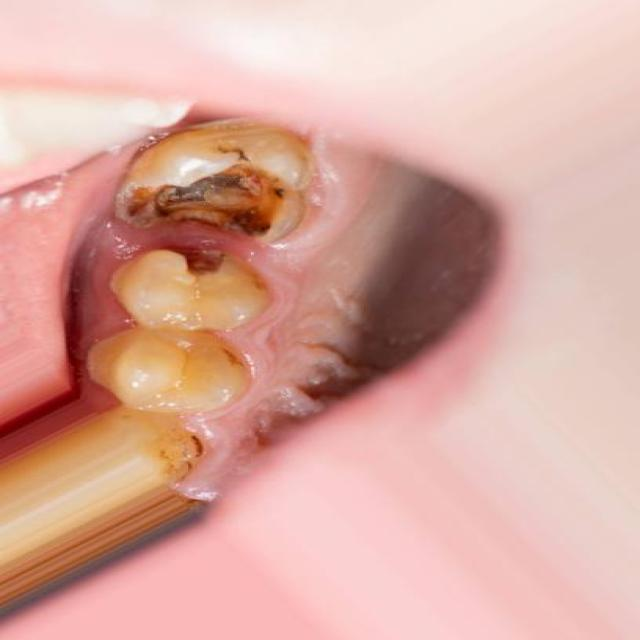caries: (132, 130, 310, 237), (129, 240, 254, 304)
